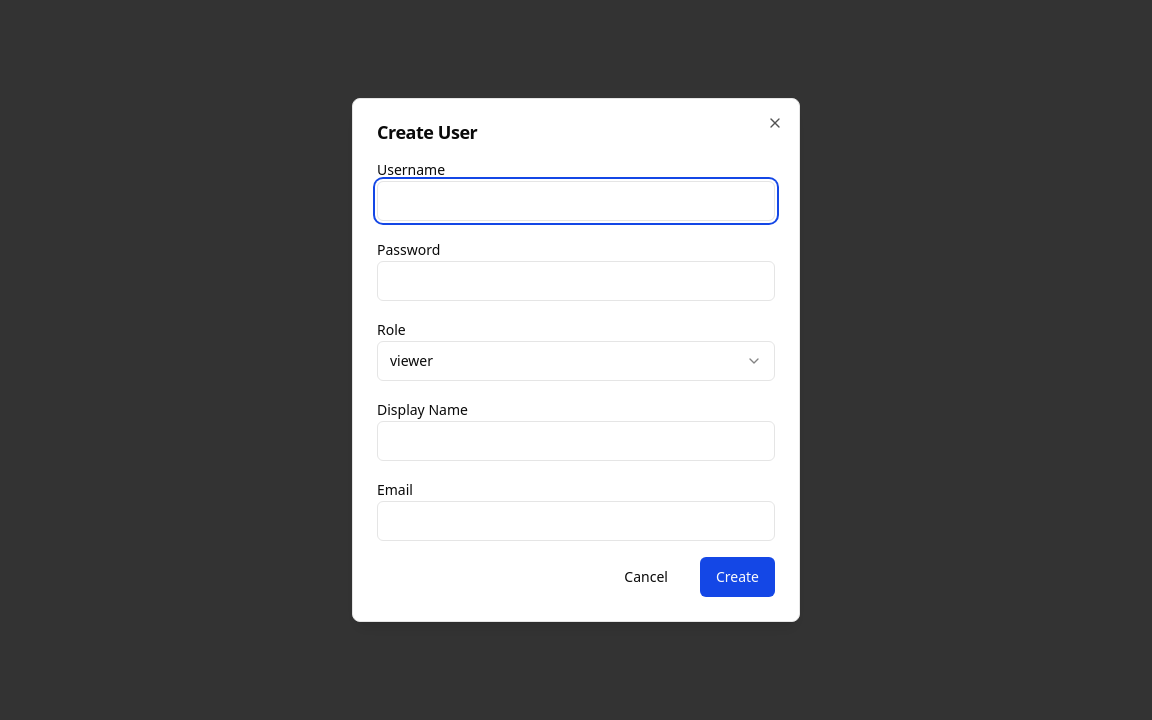
Test case: CreateUserDialog › shows validation error for password less than 8 characters
Type "testuser" into the field labelled "Username" at (576, 201), box [377,181,775,221]
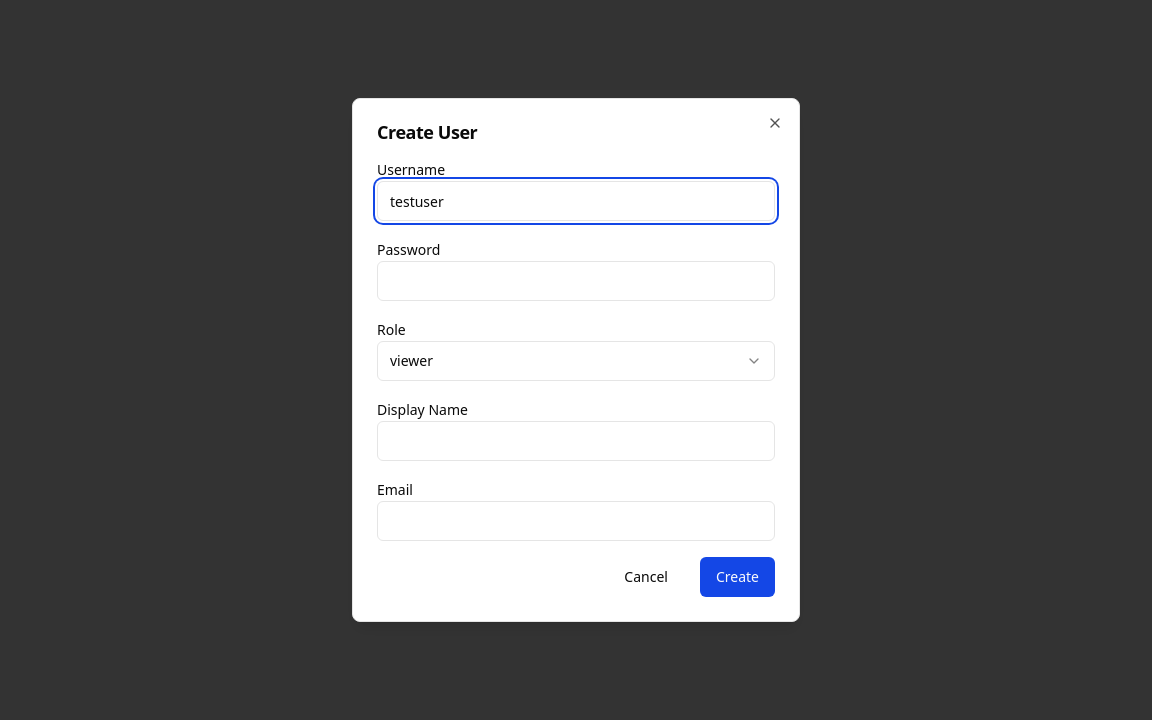
Type "abc" into the password field labelled "Password" at (576, 281), box [377,261,775,301]
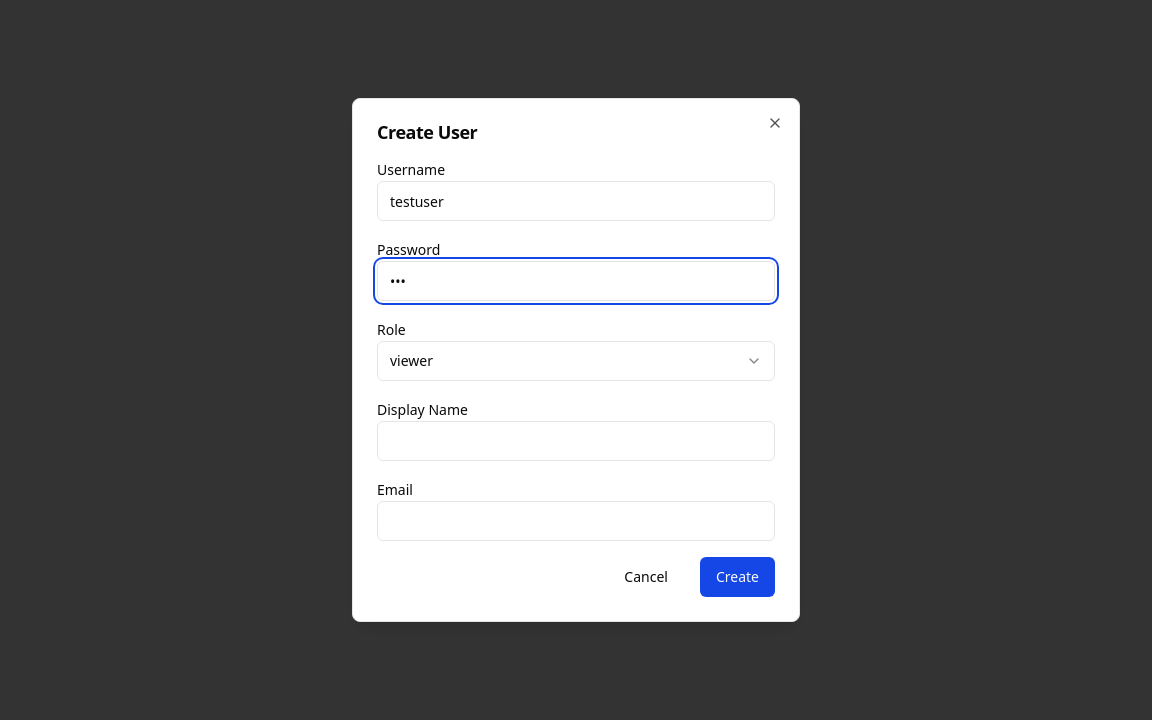
Click the button "Create" at (737, 577), box [700,557,775,597]
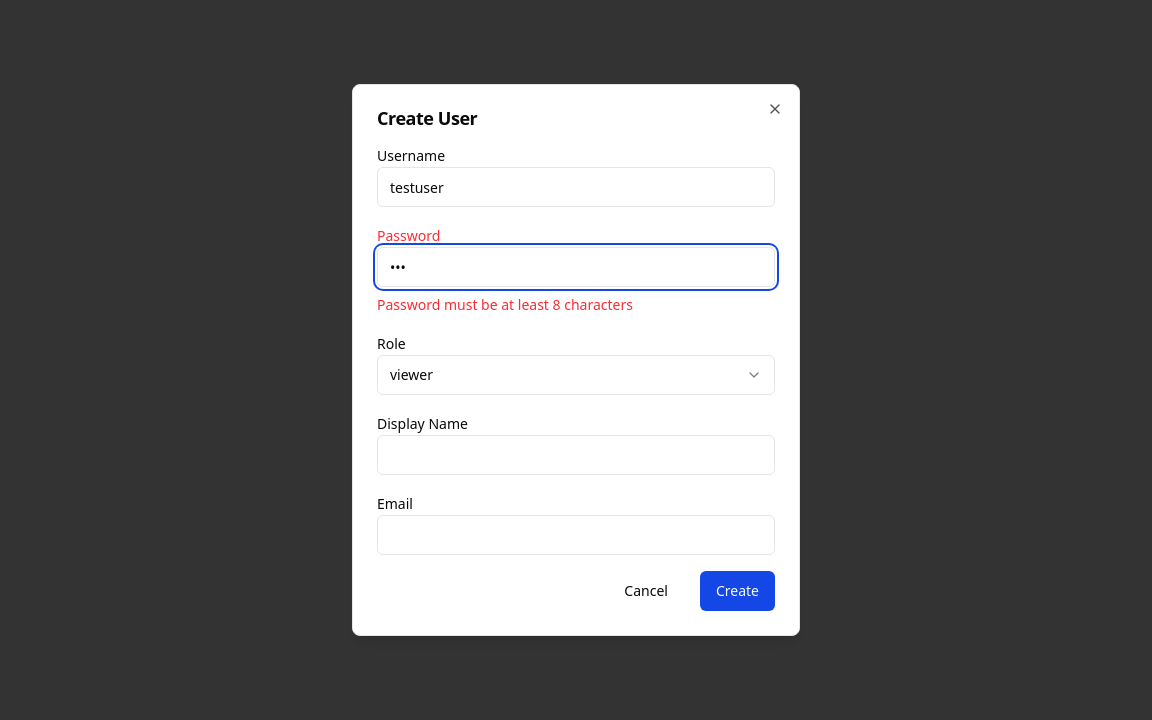
Expected: the text "Password must be at least 8 characters" is shown, [377,295,633,314]
